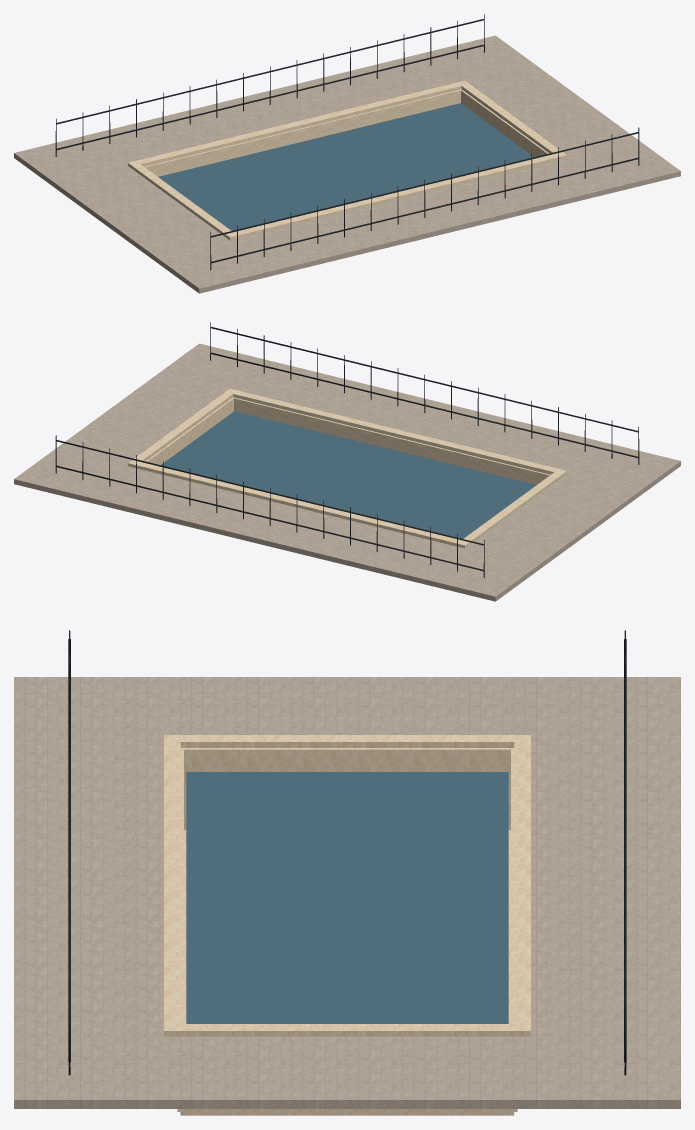
File: finish_pool_edge.glb
3 views of the same model, one above another, from view 1: azimuth 30°, elevation 25°; view 2: azimuth 150°, elevation 25°; view 3: azimuth 270°, elevation 25° (orthographic). The views are drawn at different scales.
Visible parts, largest first — view 1: Rebuilt_finish_pool_edge; view 2: Rebuilt_finish_pool_edge; view 3: Rebuilt_finish_pool_edge.
Boxes of the visible parts, bbox=[...] form: Rebuilt_finish_pool_edge: bbox=[14, 14, 680, 293]; Rebuilt_finish_pool_edge: bbox=[14, 322, 680, 601]; Rebuilt_finish_pool_edge: bbox=[14, 630, 680, 1115].
Size of the model in its own units: 18 by 3.1 by 12.
Materials: 4 (3 with a texture image).
